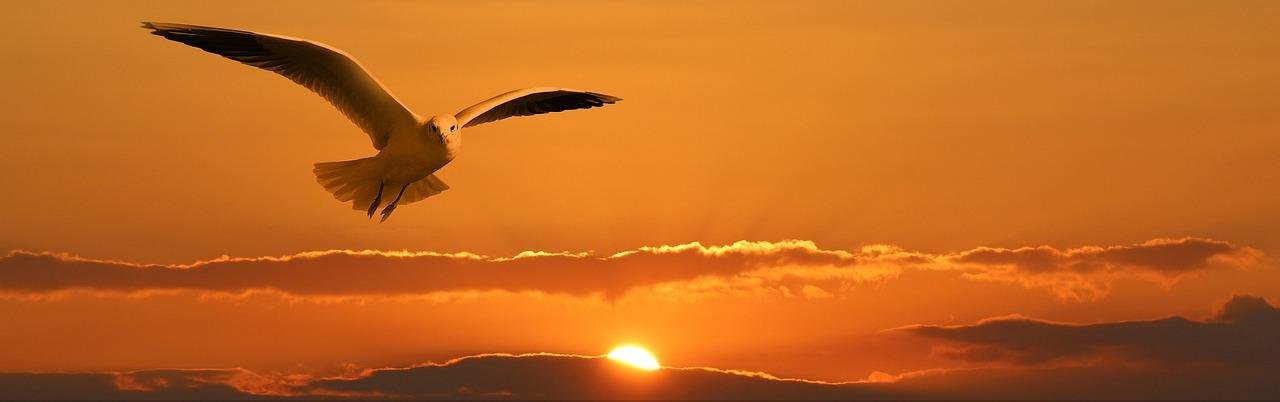bird: (142, 22, 621, 221)
